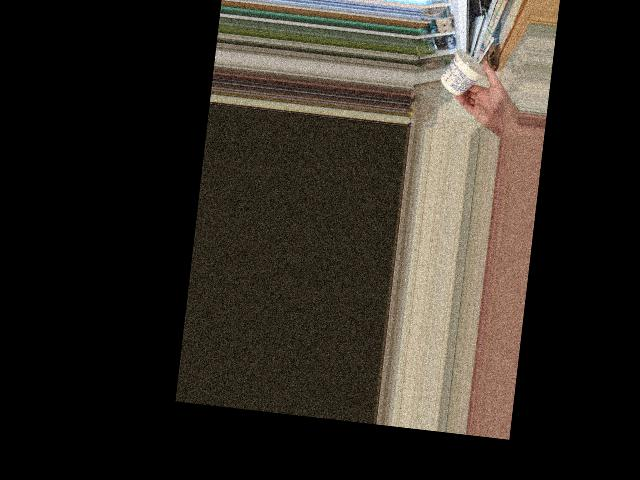cotage: (441, 45, 488, 92)
